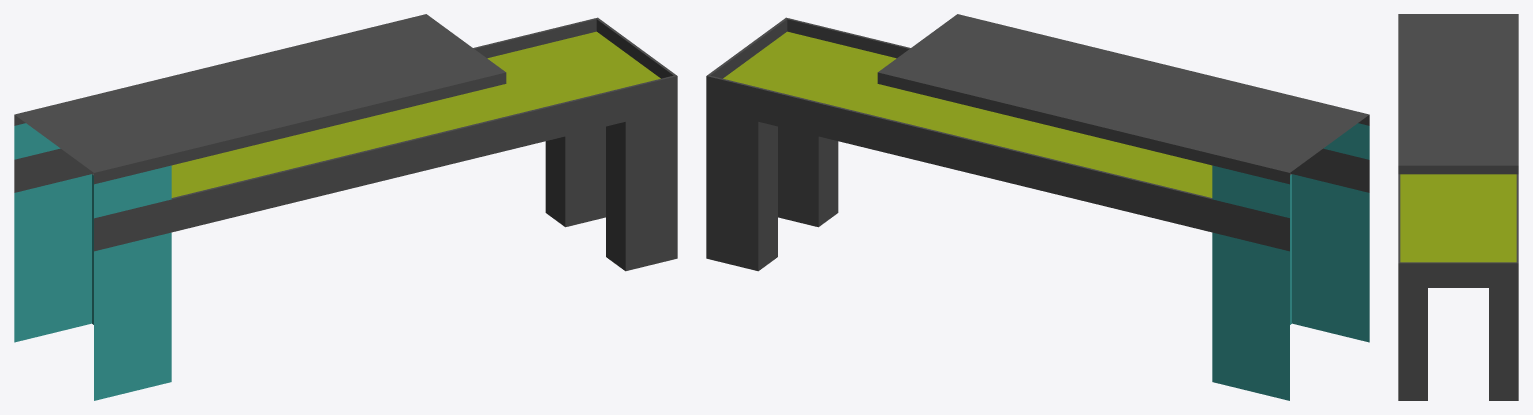
File: platform.fbx
The picture shows the model from 3 angles, left to right: view 1: azimuth 30°, elevation 25°; view 2: azimuth 150°, elevation 25°; view 3: azimuth 270°, elevation 25°; orthographic projection. The views are drawn at different scales.
Visible parts, largest first — view 1: platform; view 2: platform; view 3: platform.
Part boxes in pixels (left/top/right/bottom): platform: left=14, top=14, right=677, bottom=400; platform: left=706, top=14, right=1369, bottom=400; platform: left=1398, top=14, right=1518, bottom=400.
Size of the model in its own units: 60.77 by 22.69 by 14.39.
